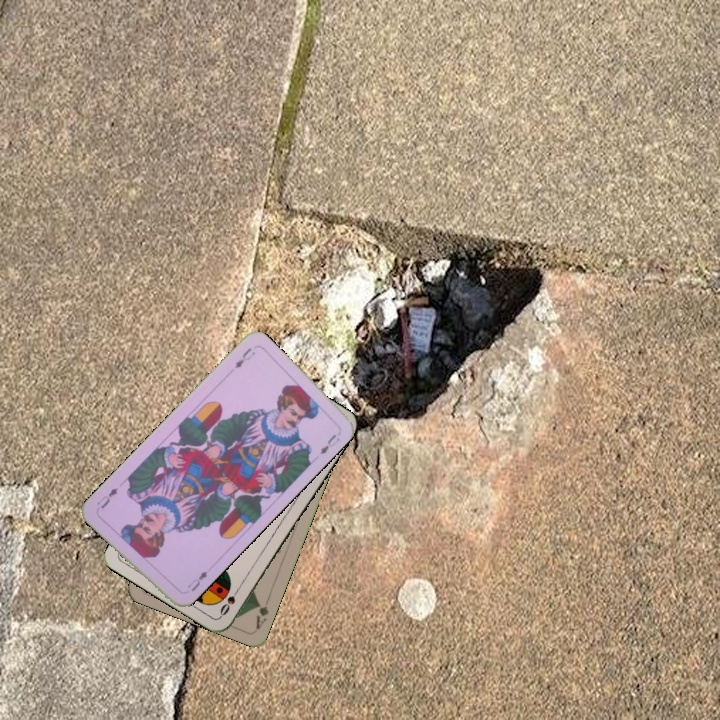EU: (230, 344, 258, 371), (183, 567, 210, 594)
GA: (252, 598, 271, 632)
SO: (216, 582, 243, 619)
